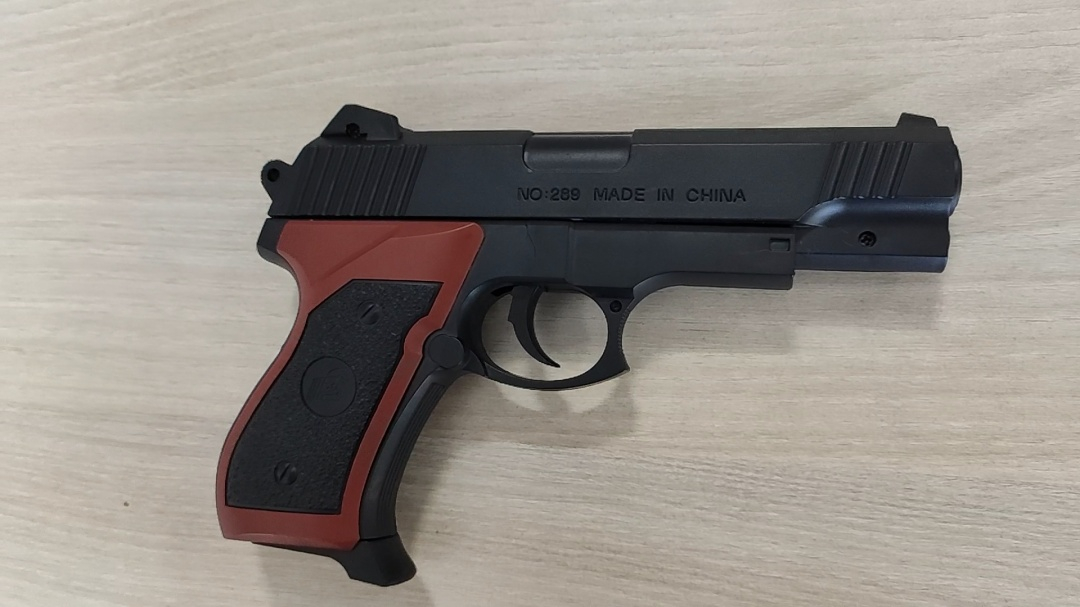gun: (212, 99, 968, 590)
